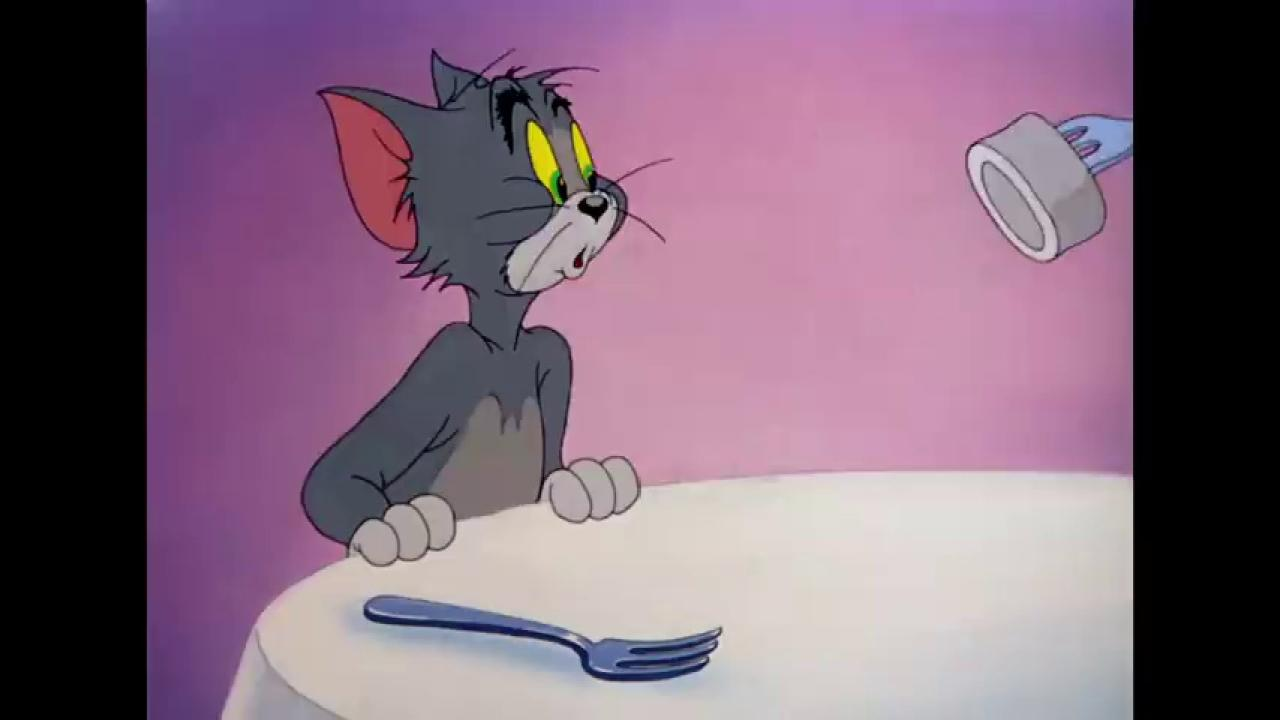Tom: (297, 46, 642, 568)
